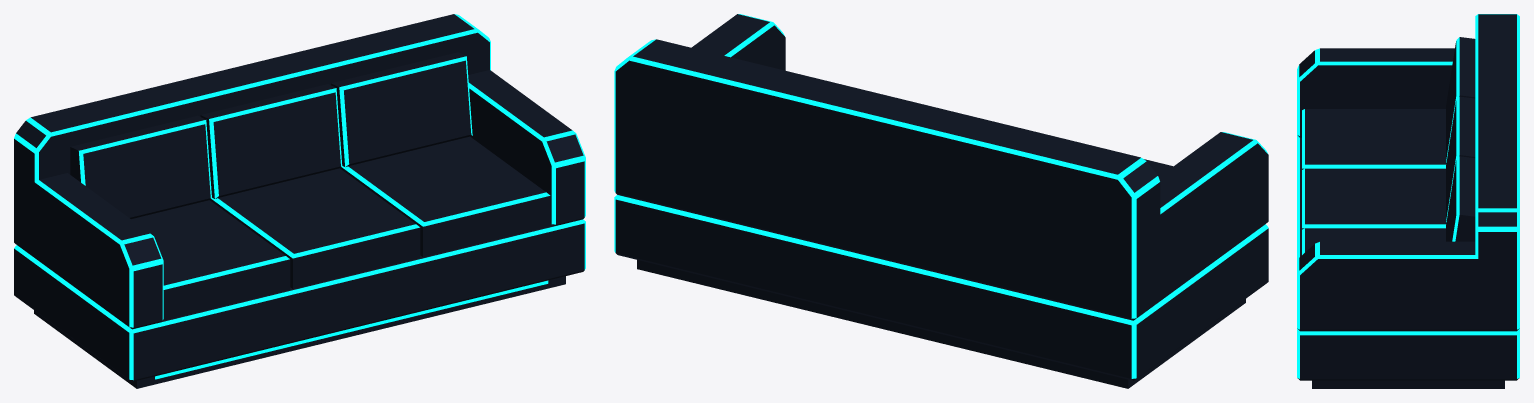
File: neon-grid-couch.glb
3 views of the same model, side by side, from view 1: azimuth 30°, elevation 25°; view 2: azimuth 150°, elevation 25°; view 3: azimuth 270°, elevation 25° (orthographic). The views are drawn at different scales.
Parts seen in each view (by area): view 1: NeonGridCouch; view 2: NeonGridCouch; view 3: NeonGridCouch.
Boxes of the visible parts, x1,y1,x2,y2 form: NeonGridCouch: (14, 14, 585, 388); NeonGridCouch: (614, 14, 1268, 388); NeonGridCouch: (1297, 14, 1519, 388).
Bounding box in the file's own units: 2 × 0.8 × 0.9.
